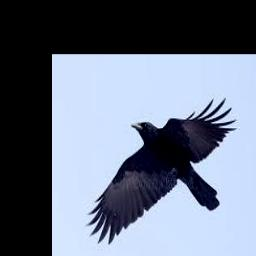Crow: (88, 97, 237, 242)
